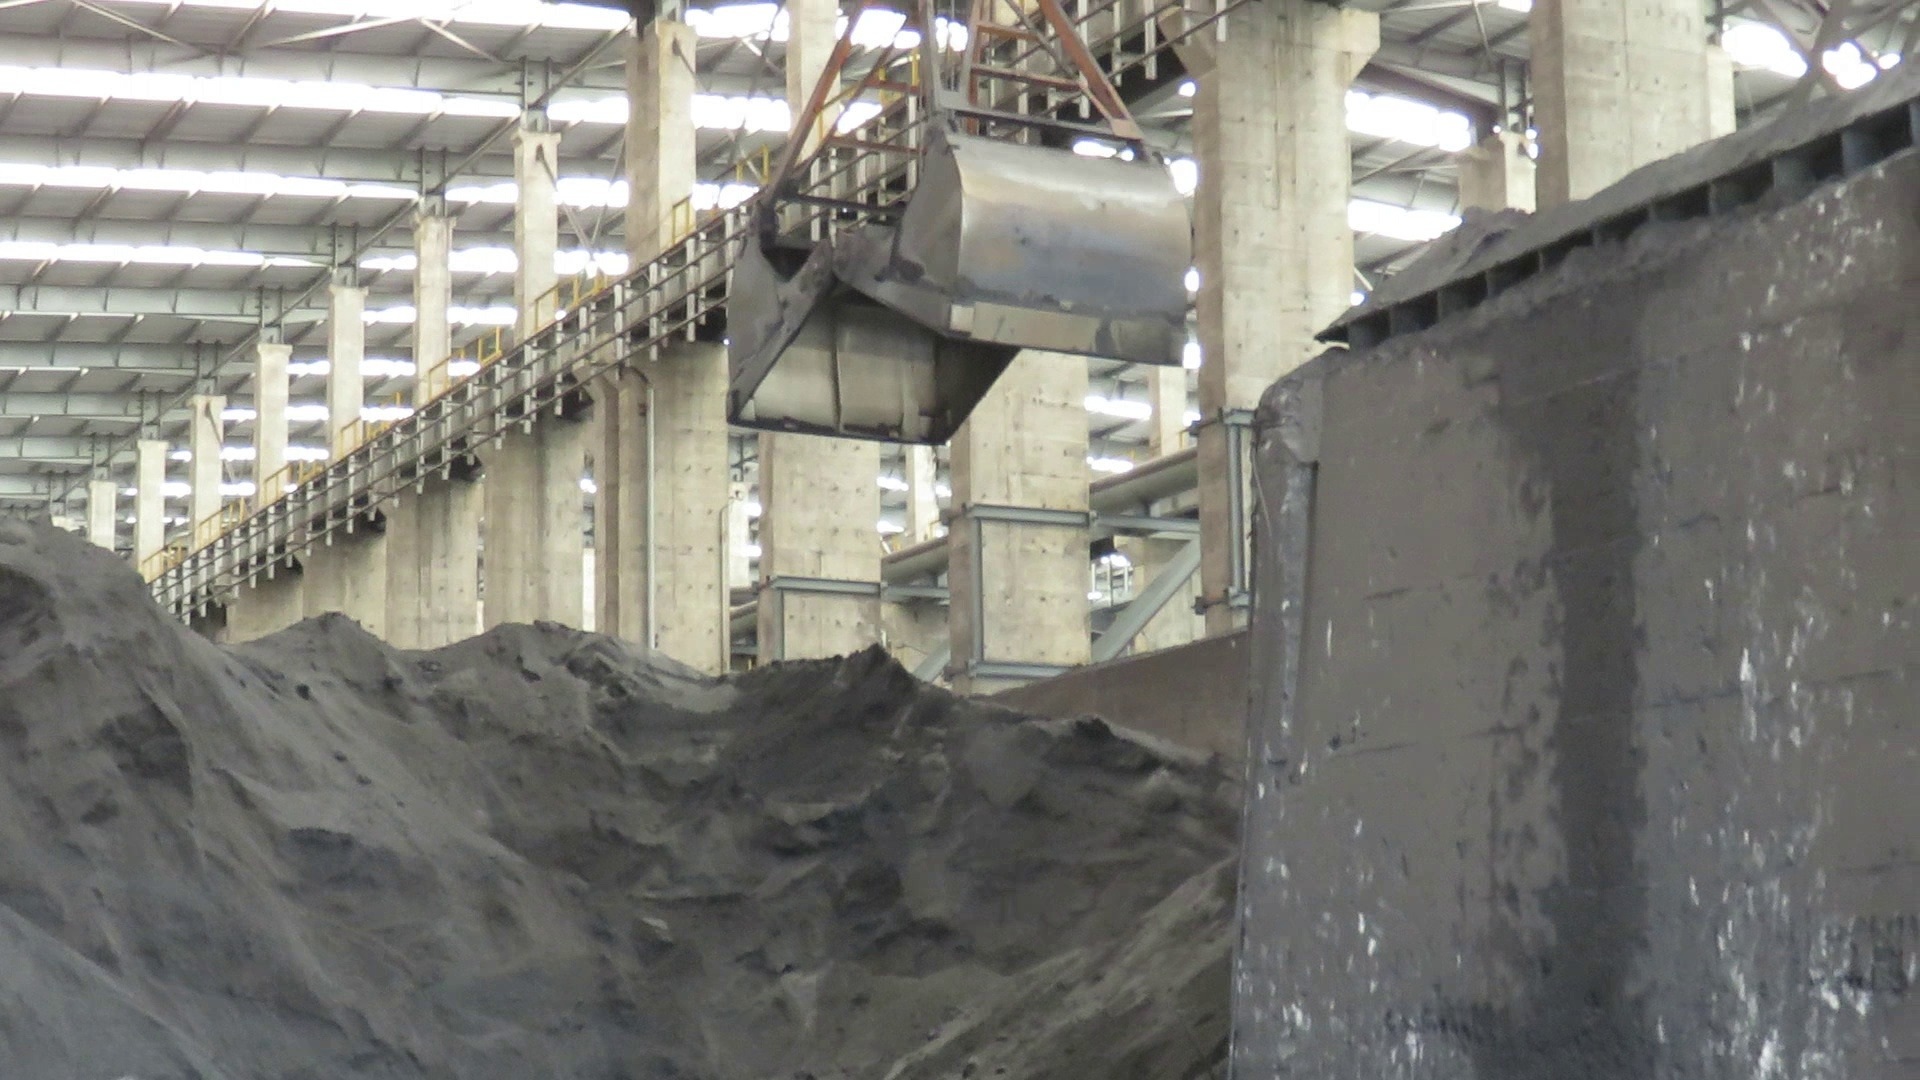grab: (715, 0, 1203, 452)
